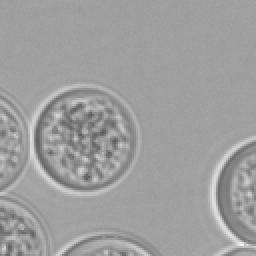picoshell: (30, 84, 140, 196), (210, 136, 254, 242), (0, 192, 50, 254), (0, 92, 28, 190), (56, 232, 154, 254), (212, 242, 254, 254)
